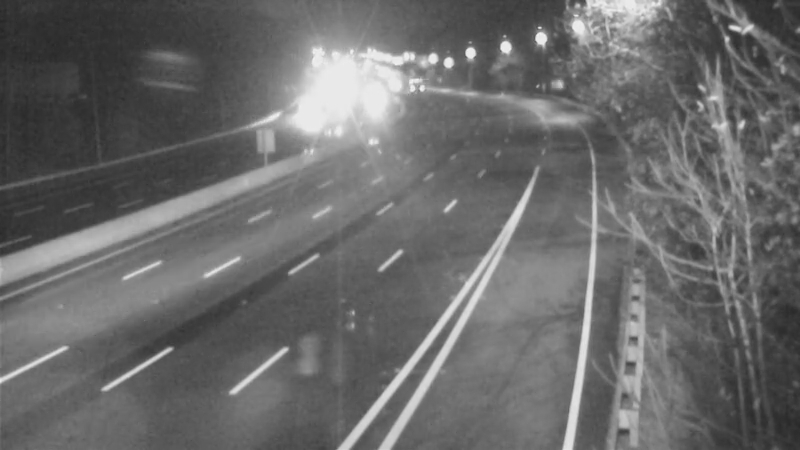vehicle: (390, 62, 440, 112), (283, 90, 333, 140), (349, 74, 399, 124)
